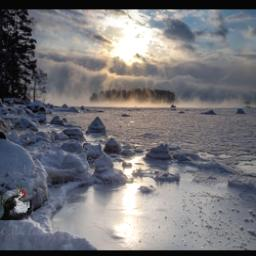Woodpecker: (0, 184, 32, 221)
